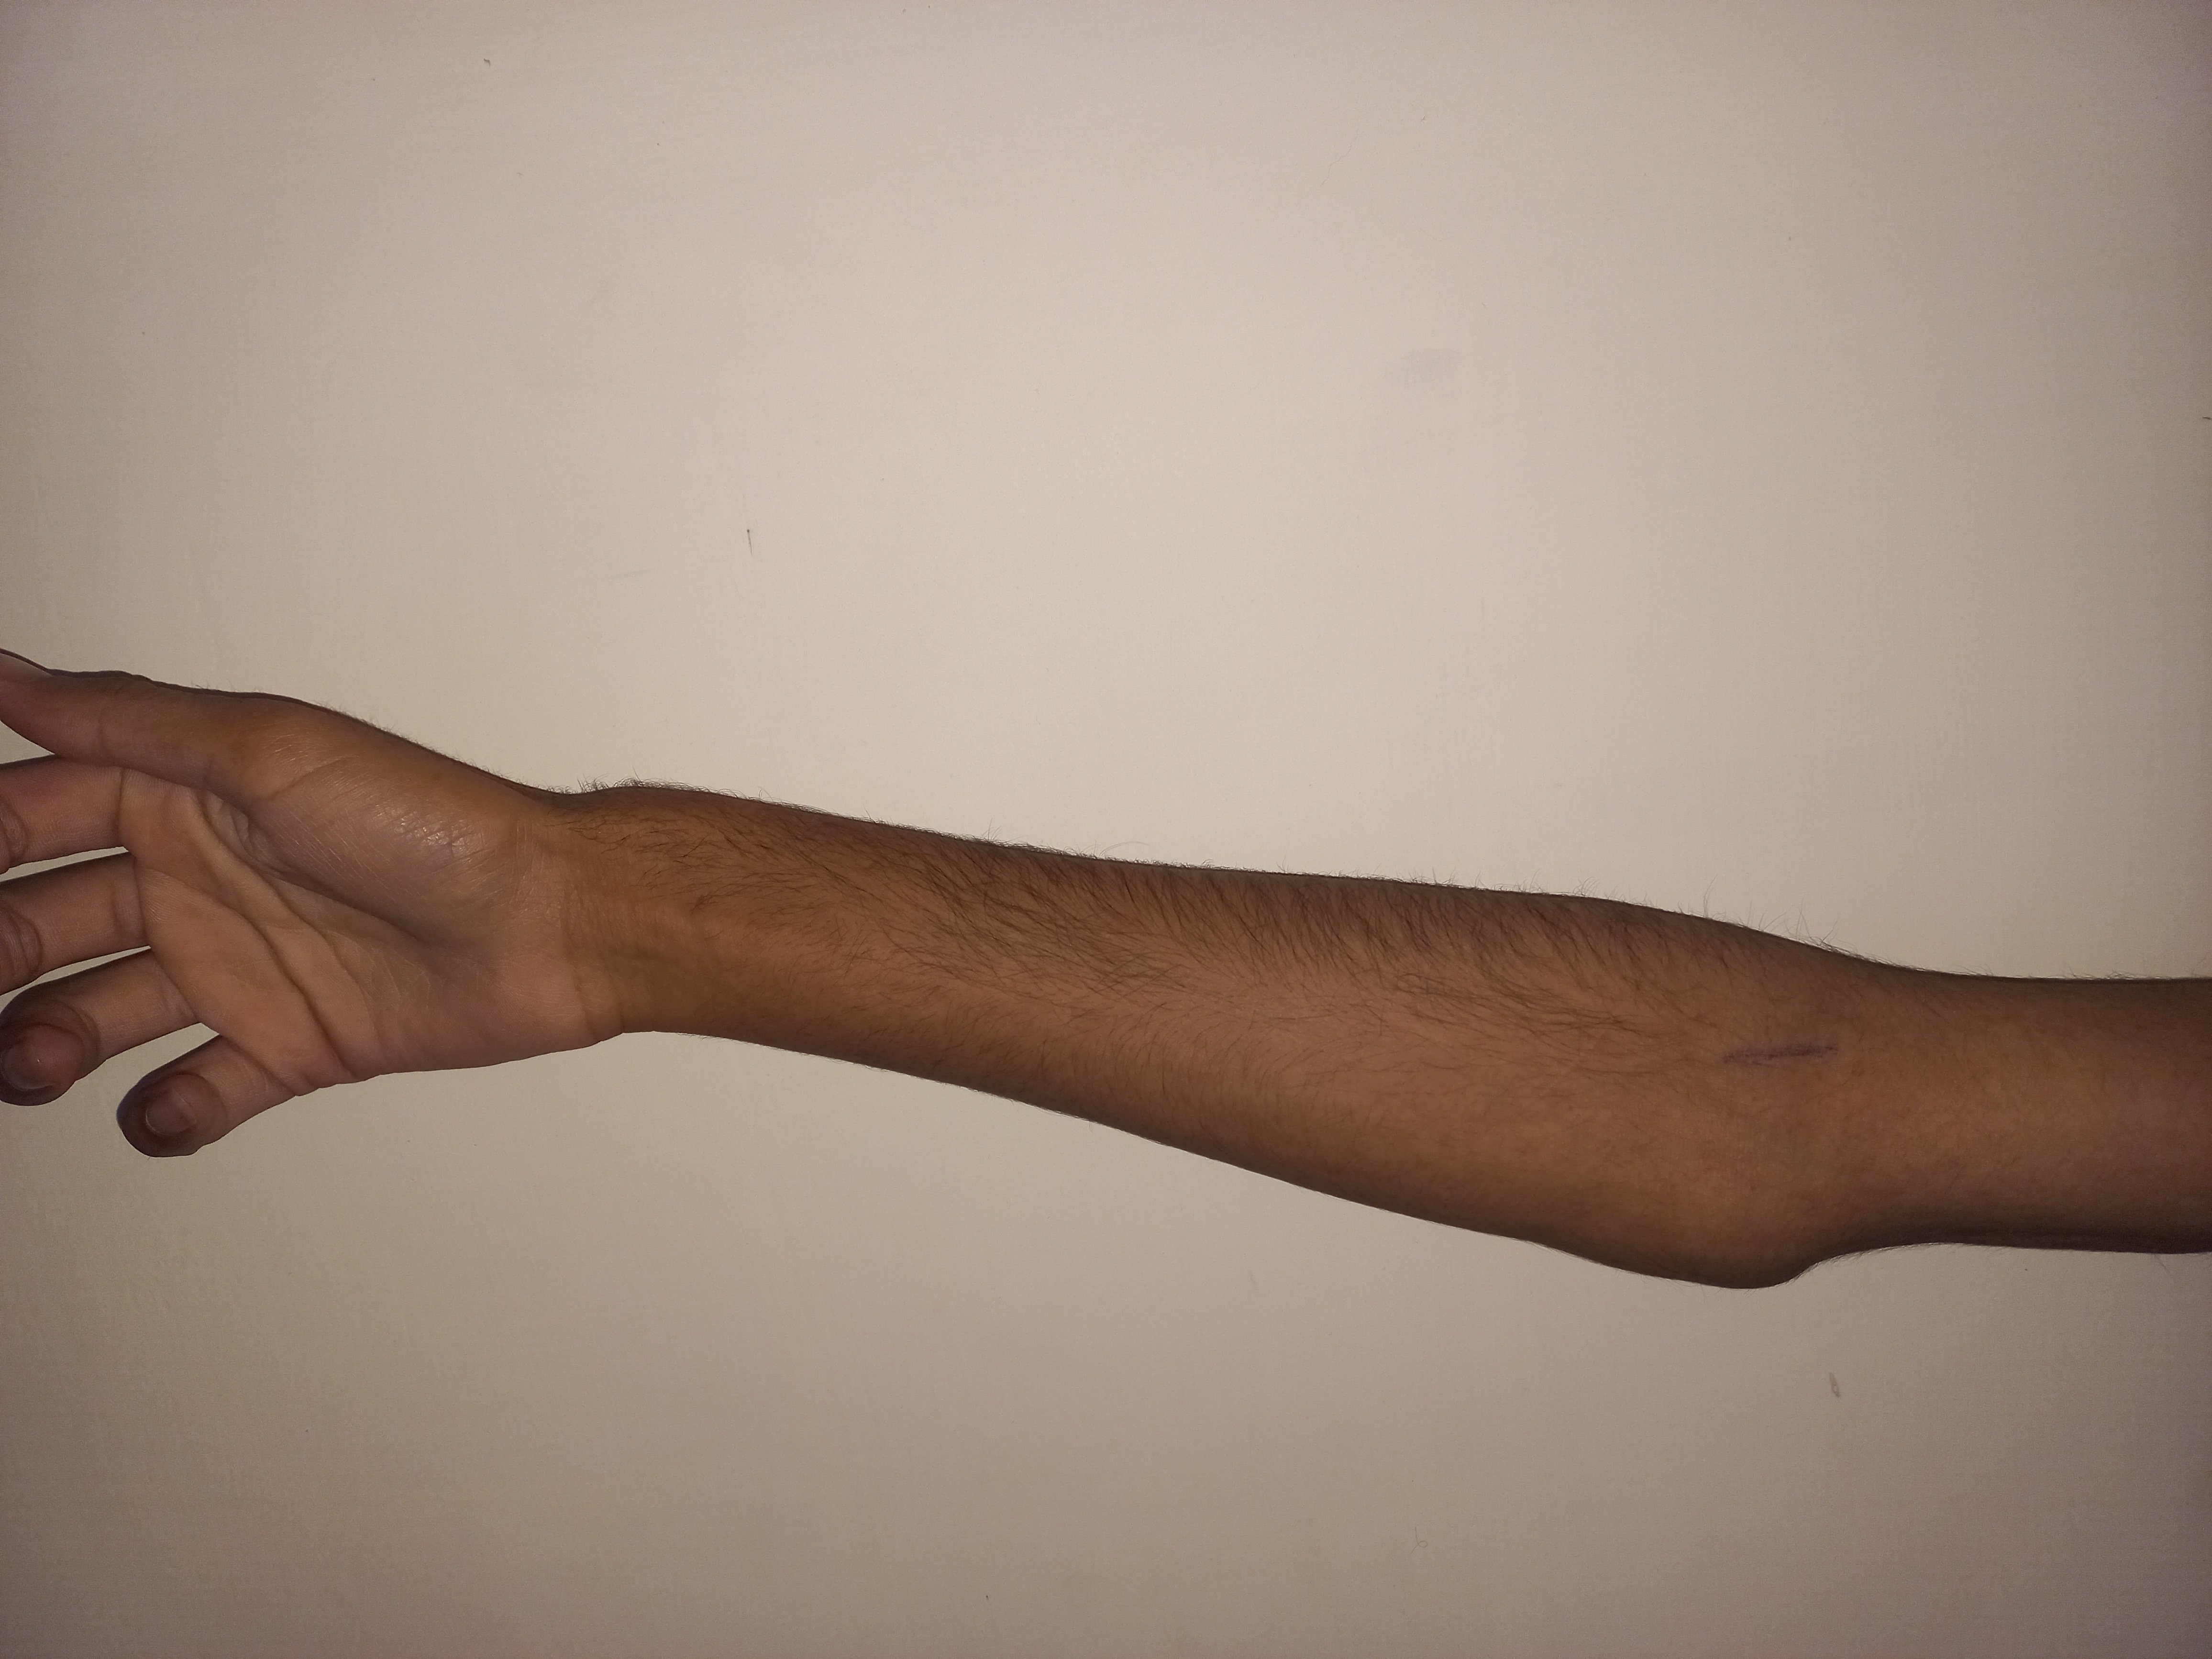vein: (1724, 1035, 1867, 1075)
